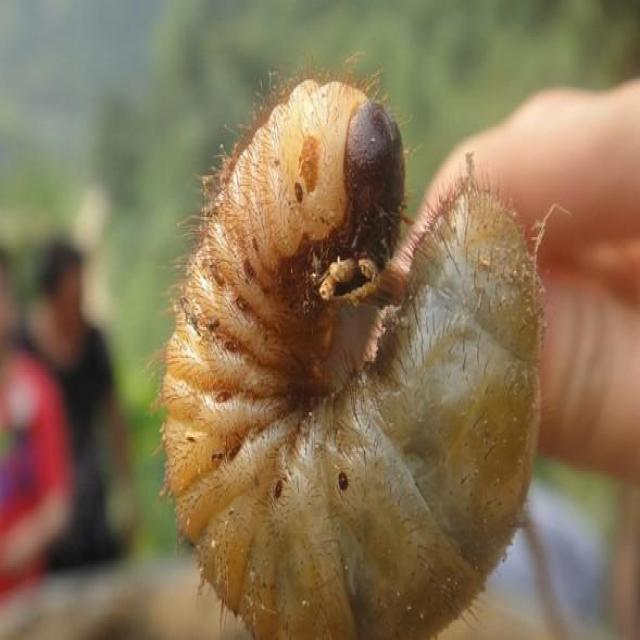Grub-Adult-: (131, 59, 544, 629)
